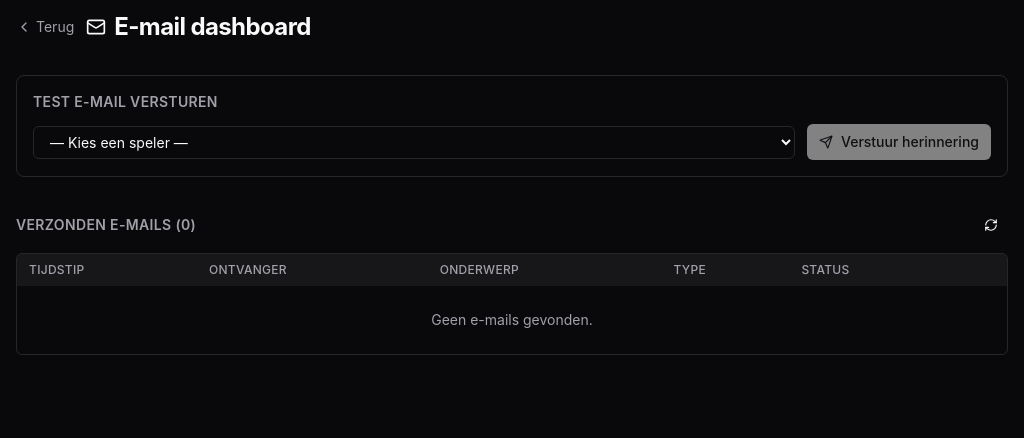
Test: AdminEmailsPage › shows error alert when send fails
Step 1. Select "Bob (bob@test.com)" in the dropdown with test id "user-select" → point(414, 142), box [33,126,795,158]
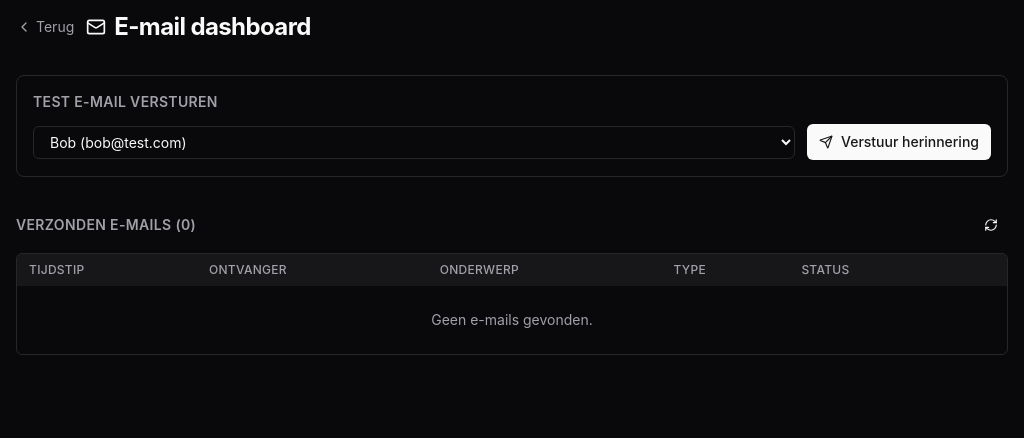
Step 2. Click the button with test id "send-reminder-btn" → point(899, 142), box [807,124,991,160]
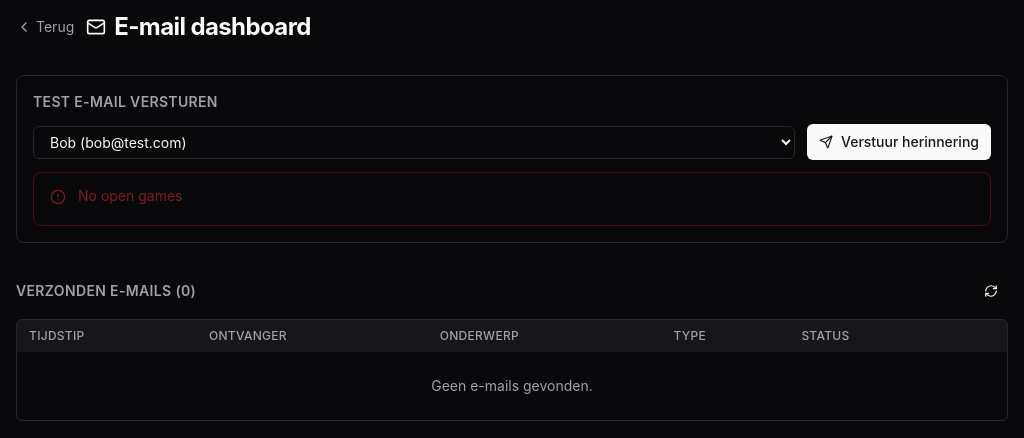
Check: the message "No open games" is shown, box [33,172,991,226]
